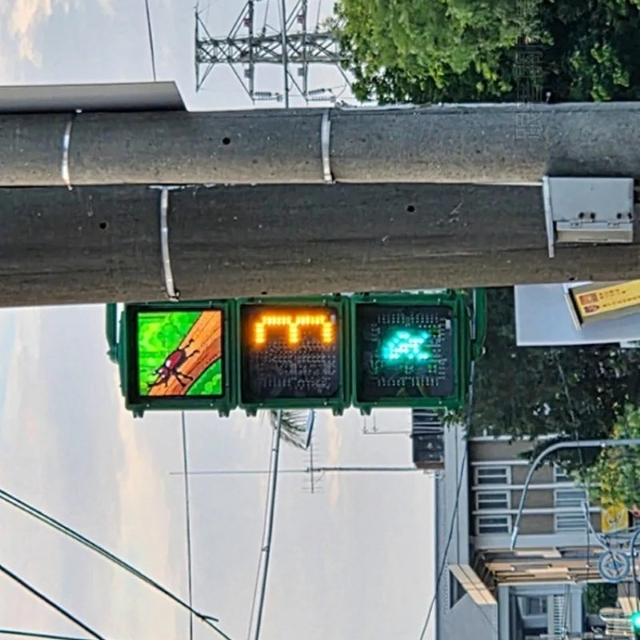green_light: (235, 301, 465, 408)
